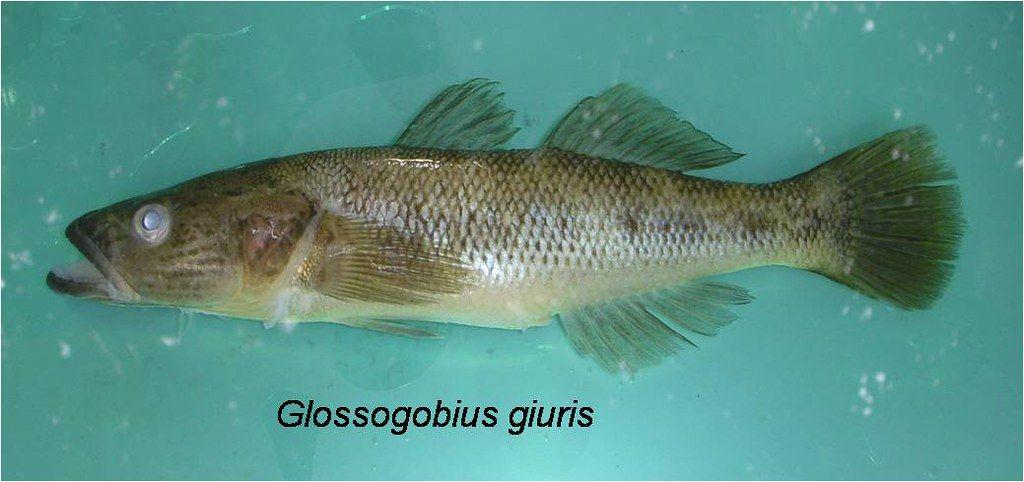Goby: (41, 77, 969, 364)
